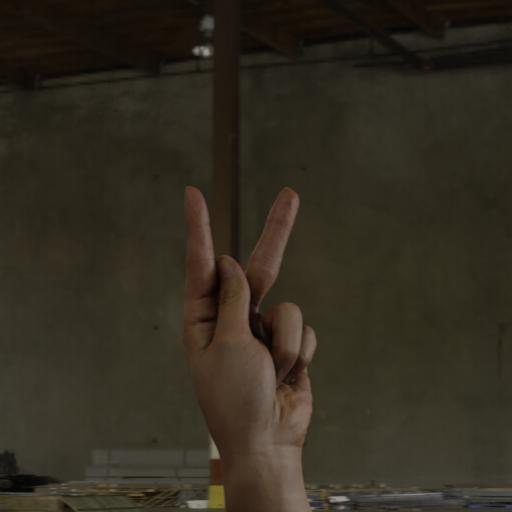K: (166, 171, 325, 470)
